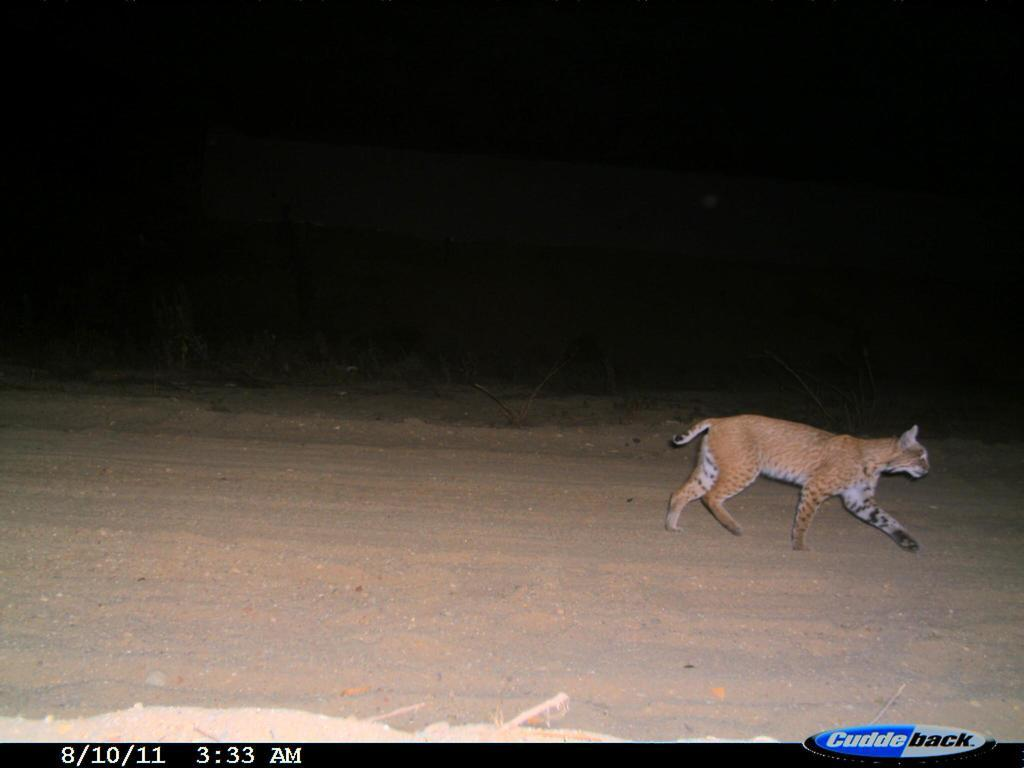bobcat: (662, 413, 937, 566)
